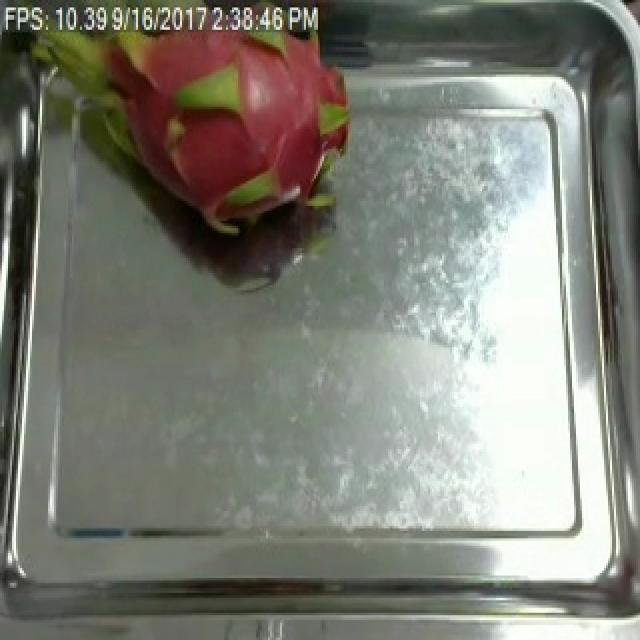fruit: (6, 0, 366, 280)
